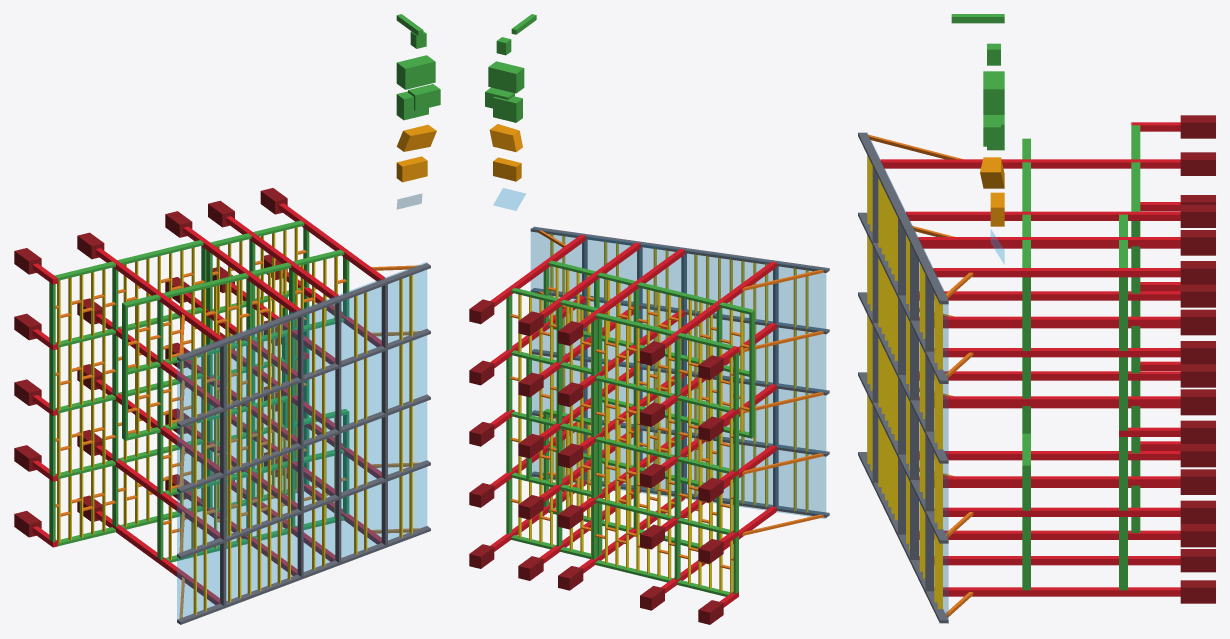
File: tinker.obj
The picture shows the model from 3 angles, left to right: view 1: azimuth 30°, elevation 25°; view 2: azimuth 150°, elevation 25°; view 3: azimuth 270°, elevation 25°; orthographic projection. The views are drawn at different scales.
Visible parts, largest first — view 1: obj_424, obj_1, obj_420, obj_2, obj_20, obj_15, obj_421, obj_3, obj_4, obj_11, obj_6, obj_419 (+10 smaller); view 2: obj_424, obj_1, obj_420, obj_2, obj_421, obj_3, obj_4, obj_419, obj_20, obj_15, obj_7, obj_21 (+13 smaller); view 3: obj_1, obj_2, obj_3, obj_4, obj_23, obj_18, obj_9, obj_13, obj_8, obj_17, obj_22, obj_16 (+59 smaller).
Part boxes in pixels (<box>): obj_424: <box>177,262,426,623</box>; obj_1: <box>95,248,223,341</box>; obj_420: <box>396,84,440,120</box>; obj_2: <box>183,226,300,312</box>; obj_20: <box>95,511,220,604</box>; obj_15: <box>95,445,220,539</box>; obj_421: <box>396,55,435,89</box>; obj_3: <box>226,216,338,298</box>; obj_4: <box>279,203,384,281</box>; obj_11: <box>95,379,220,473</box>; obj_6: <box>95,314,220,407</box>; obj_419: <box>397,124,436,151</box>; obj_424: <box>531,228,825,518</box>; obj_1: <box>661,261,776,348</box>; obj_420: <box>485,87,522,122</box>; obj_2: <box>579,249,684,328</box>; obj_421: <box>488,61,524,93</box>; obj_3: <box>539,242,640,318</box>; obj_4: <box>490,235,585,306</box>; obj_419: <box>489,124,522,152</box>; obj_20: <box>661,506,776,593</box>; obj_15: <box>661,445,776,532</box>; obj_7: <box>579,310,684,389</box>; obj_21: <box>579,496,684,573</box>; obj_1: <box>880,159,1180,168</box>; obj_2: <box>906,211,1180,220</box>; obj_3: <box>918,237,1180,246</box>; obj_4: <box>933,268,1180,277</box>; obj_23: <box>934,587,1180,596</box>; obj_18: <box>934,507,1180,516</box>; obj_9: <box>934,348,1180,357</box>; obj_13: <box>919,396,1180,405</box>; obj_8: <box>919,316,1180,325</box>; obj_17: <box>919,476,1180,485</box>; obj_22: <box>919,556,1180,565</box>; obj_16: <box>919,451,1180,460</box>.
Bounding box in the file's own units: 132 × 192 × 102.
